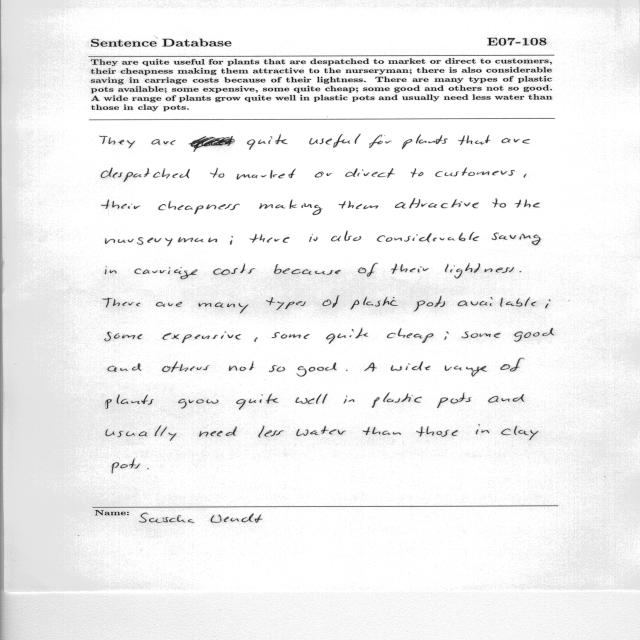word: (101, 168, 190, 182), (106, 425, 176, 441), (445, 263, 514, 278), (377, 232, 479, 242), (105, 237, 217, 246), (158, 202, 240, 214), (259, 200, 322, 215), (163, 331, 241, 343), (395, 198, 479, 209), (435, 167, 515, 177), (458, 297, 536, 307), (135, 267, 198, 279), (372, 393, 422, 408), (274, 264, 341, 275), (189, 136, 235, 152), (309, 134, 361, 148), (106, 394, 154, 409), (402, 134, 448, 149), (387, 328, 433, 343), (236, 394, 279, 410), (326, 328, 368, 344), (247, 134, 288, 150), (237, 169, 296, 180), (350, 297, 398, 310), (492, 233, 541, 245), (514, 328, 554, 342), (297, 363, 337, 377), (199, 303, 248, 314), (501, 426, 539, 440), (266, 297, 306, 310), (162, 361, 209, 372), (437, 393, 471, 408), (345, 168, 395, 178), (297, 426, 347, 436), (414, 296, 445, 312), (214, 264, 256, 275), (445, 366, 487, 377), (416, 426, 458, 437), (100, 136, 136, 148), (112, 458, 140, 473), (199, 426, 237, 437), (178, 399, 219, 409), (391, 361, 430, 371), (102, 199, 140, 209), (391, 264, 429, 274), (103, 298, 140, 308), (105, 332, 142, 342), (250, 234, 290, 243), (458, 135, 491, 145), (295, 394, 328, 404), (488, 394, 524, 403), (369, 134, 392, 148), (339, 201, 379, 209), (500, 358, 524, 371), (258, 426, 284, 438), (363, 427, 401, 435), (331, 231, 361, 241), (108, 363, 141, 372), (358, 263, 378, 277), (462, 332, 501, 339), (272, 332, 310, 339), (229, 361, 254, 371), (515, 199, 540, 208), (323, 296, 340, 308), (151, 139, 176, 145), (502, 138, 530, 143), (210, 168, 224, 178), (492, 198, 506, 208), (156, 302, 182, 307), (476, 425, 489, 435), (411, 168, 424, 177), (364, 363, 377, 372), (269, 365, 285, 372), (315, 172, 332, 178), (105, 266, 117, 274), (344, 396, 355, 404), (309, 236, 318, 242), (545, 300, 550, 309), (444, 331, 449, 340), (230, 236, 233, 245), (255, 337, 258, 342), (524, 174, 527, 178), (520, 271, 522, 272), (346, 370, 348, 371), (147, 468, 149, 469)
